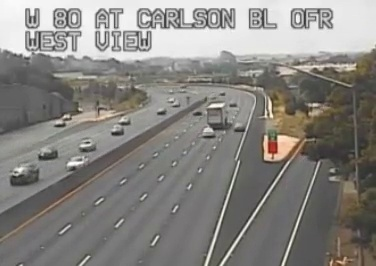car: (201, 127, 214, 137)
truck: (206, 102, 227, 129)
